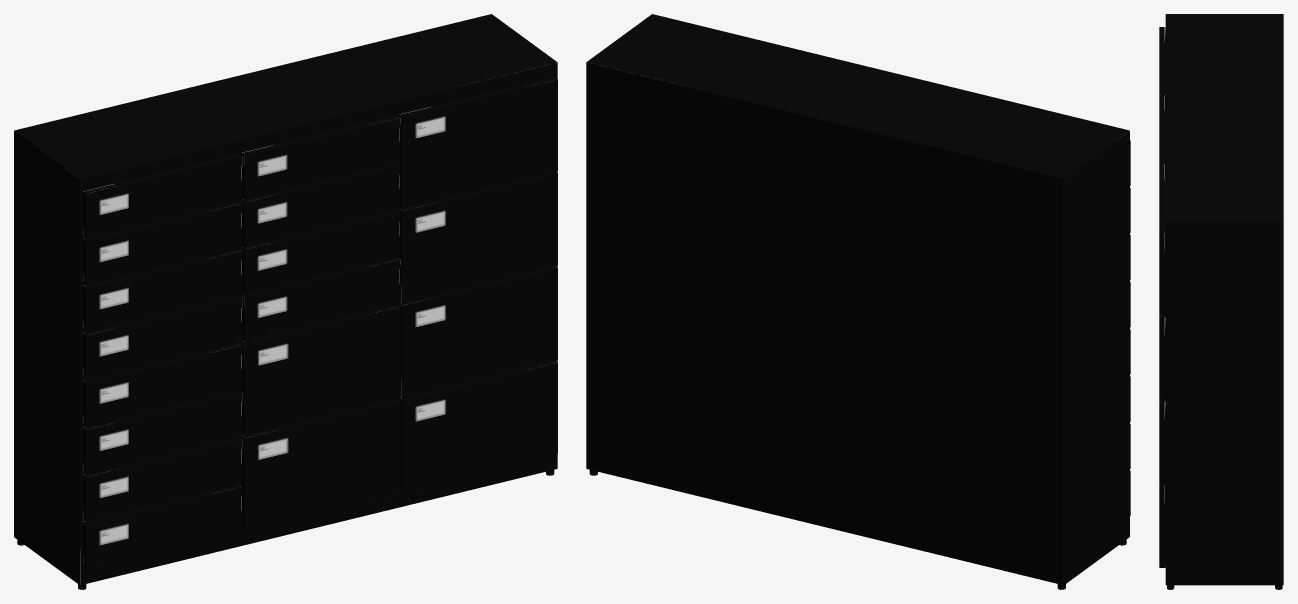
Rendered from office_box.obj.
3 views of the same model, side by side, from view 1: azimuth 30°, elevation 25°; view 2: azimuth 150°, elevation 25°; view 3: azimuth 270°, elevation 25° (orthographic). The views are drawn at different scales.
Parts seen in each view (by area): view 1: oficina_armario_Cube.161; view 2: oficina_armario_Cube.161; view 3: oficina_armario_Cube.161.
Boxes of the visible parts, x1,y1,x2,y2 form: oficina_armario_Cube.161: (14, 14, 557, 589); oficina_armario_Cube.161: (586, 14, 1130, 589); oficina_armario_Cube.161: (1159, 14, 1283, 589).
Bounding box in the file's own units: 2.12 × 1.75 × 0.535.
Materials: 3 (3 with a texture image).
